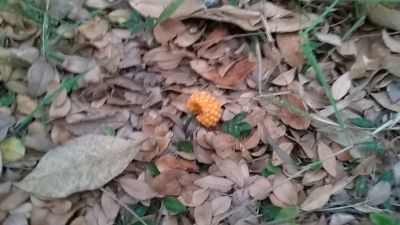eggs: (187, 91, 223, 128)
